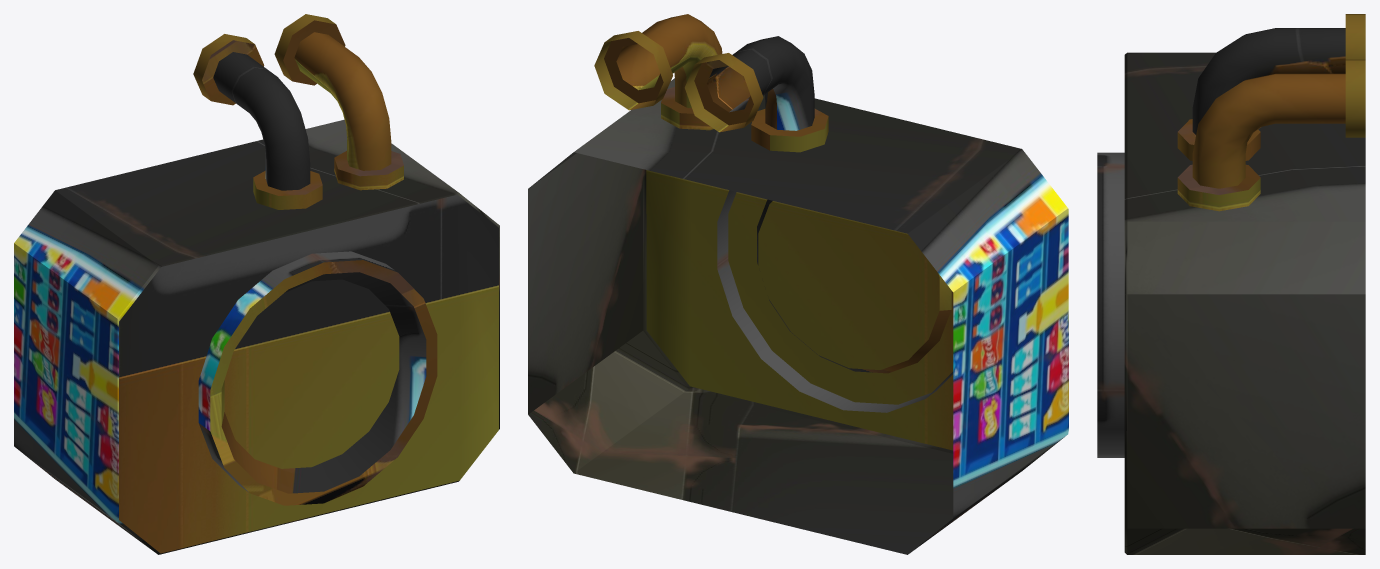
The model's file is con1 2.fbx.
3 views of the same model, side by side, from view 1: azimuth 30°, elevation 25°; view 2: azimuth 150°, elevation 25°; view 3: azimuth 270°, elevation 25° (orthographic). The views are drawn at different scales.
Parts seen in each view (by area): view 1: conditioner_001; view 2: conditioner_001; view 3: conditioner_001.
Part boxes in pixels (x1=…): conditioner_001: x1=14, y1=14, x2=499, y2=554; conditioner_001: x1=528, y1=14, x2=1068, y2=554; conditioner_001: x1=1097, y1=14, x2=1365, y2=554.
Size of the model in its own units: 89.06 by 89.94 by 46.95.
